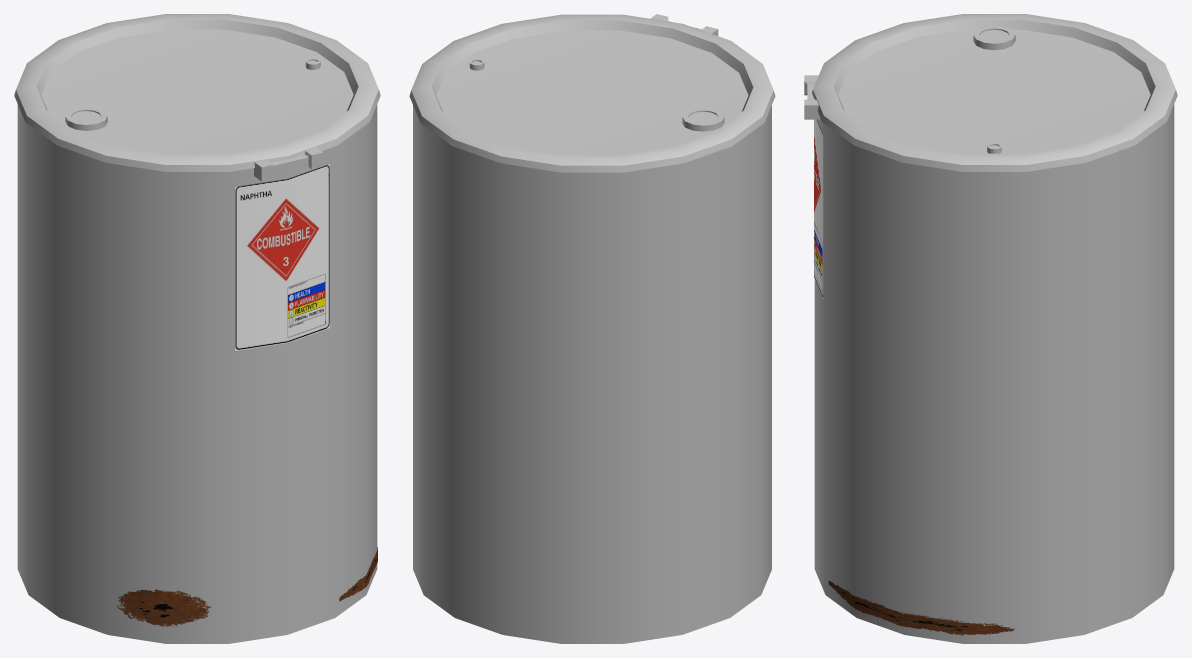
File: 55_Gal_Drum_Naptha.fbx
The picture shows the model from 3 angles, left to right: view 1: azimuth 30°, elevation 25°; view 2: azimuth 150°, elevation 25°; view 3: azimuth 270°, elevation 25°; orthographic projection.
Visible parts, largest first — view 1: 55_Gal_Drum_Naptha, 55_Gal_Drum_Lid_Low.003, 55_Gal_Drum_Label_Low.007, 55_Gal_Drum_Label_Low.009; view 2: 55_Gal_Drum_Naptha, 55_Gal_Drum_Lid_Low.003; view 3: 55_Gal_Drum_Naptha, 55_Gal_Drum_Lid_Low.003, 55_Gal_Drum_Label_Low.008, 55_Gal_Drum_Label_Low.007.
Part boxes in pixels (x1,y1,x2,y2): 55_Gal_Drum_Naptha: (17,104,377,643); 55_Gal_Drum_Lid_Low.003: (14,14,380,181); 55_Gal_Drum_Label_Low.007: (235,164,329,350); 55_Gal_Drum_Label_Low.009: (116,589,210,627); 55_Gal_Drum_Naptha: (413,105,771,643); 55_Gal_Drum_Lid_Low.003: (409,14,775,172); 55_Gal_Drum_Naptha: (814,104,1174,643); 55_Gal_Drum_Lid_Low.003: (804,14,1177,171); 55_Gal_Drum_Label_Low.008: (828,581,1014,635); 55_Gal_Drum_Label_Low.007: (814,119,823,299).
Bounding box in the file's own units: 58.21 × 85.89 × 60.23.
